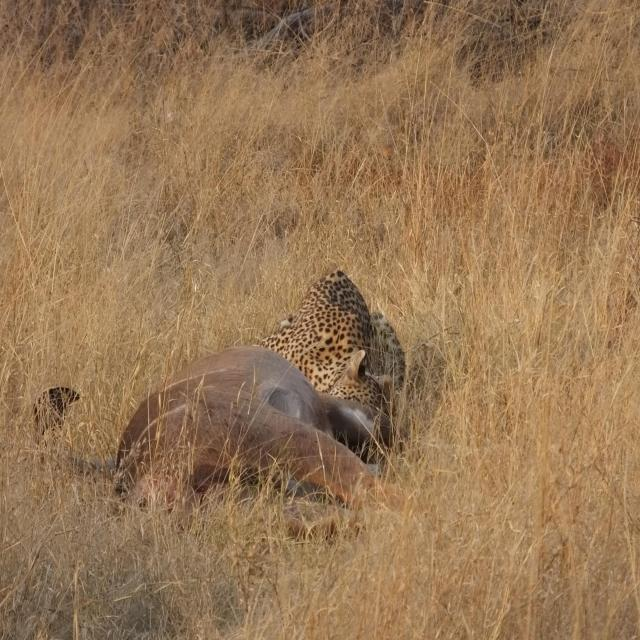Leopard: (250, 266, 402, 408)
